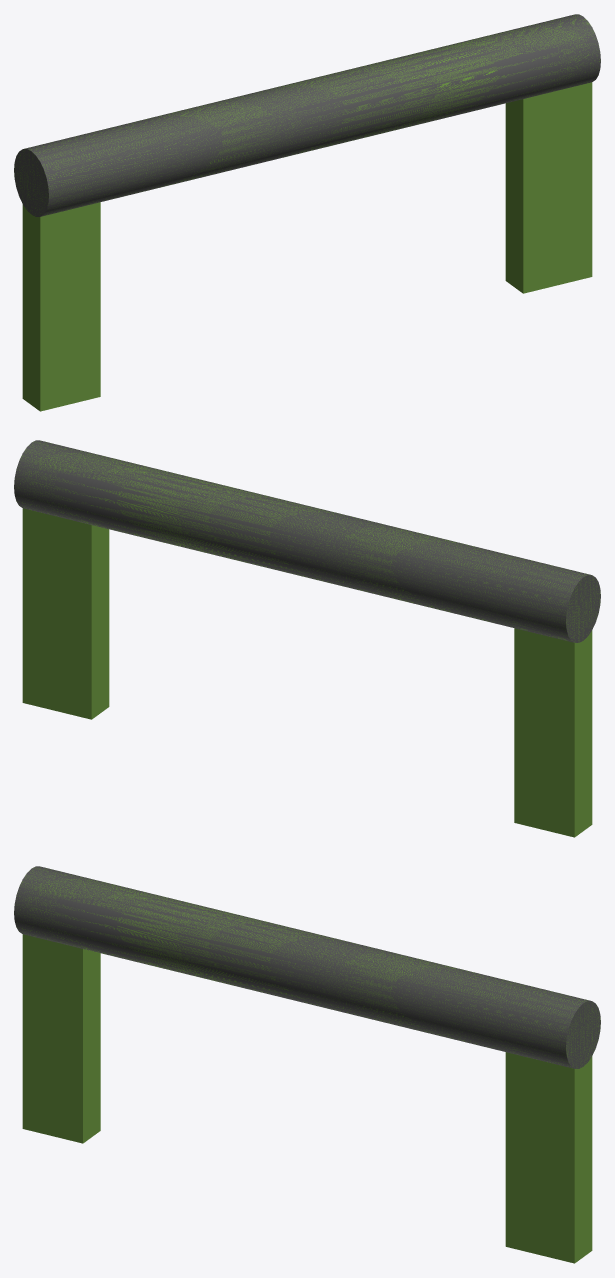
Rendered from barriere_dae.dae.
3 views of the same model, one above another, from view 1: azimuth 30°, elevation 25°; view 2: azimuth 150°, elevation 25°; view 3: azimuth 330°, elevation 25° (orthographic).
Visible parts, largest first — view 1: SketchUp (×3); view 2: SketchUp (×3); view 3: SketchUp (×3).
Part boxes in pixels (x1,y1,x2,y2): SketchUp (×3): (14,14,600,411); SketchUp (×3): (14,440,600,837); SketchUp (×3): (14,866,600,1263).
Bounding box in the file's own units: 35.83 × 3.94 × 15.75.
